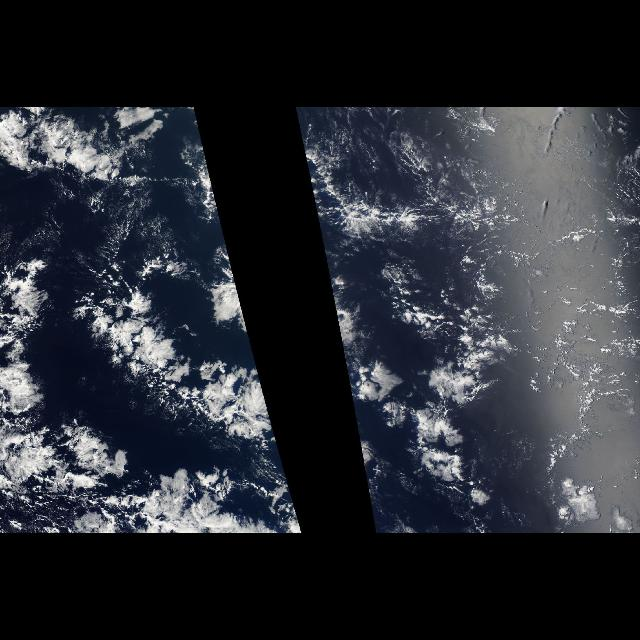Flower: (342, 346, 530, 504)
